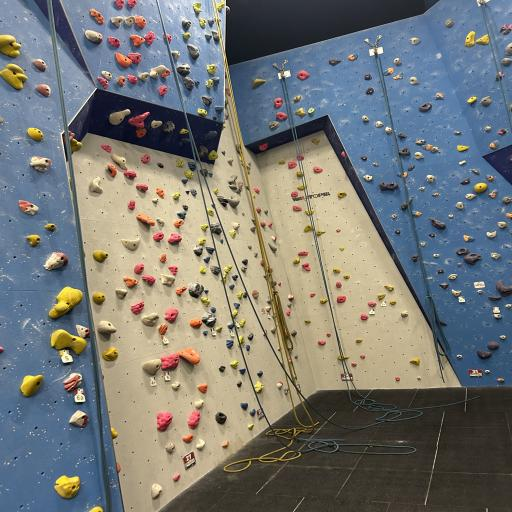holds: (483, 144, 512, 184), (48, 288, 83, 319), (51, 330, 86, 355), (0, 64, 29, 90), (54, 477, 80, 499), (22, 374, 45, 397), (0, 35, 19, 58), (45, 253, 67, 272), (109, 109, 131, 125), (179, 349, 201, 365), (128, 112, 150, 128), (29, 157, 51, 173), (157, 413, 173, 432), (64, 374, 83, 390), (160, 352, 179, 368), (86, 29, 102, 45), (115, 51, 131, 67), (70, 410, 86, 426), (102, 346, 118, 362), (144, 358, 160, 374), (112, 154, 128, 170), (189, 282, 205, 298), (496, 278, 512, 294), (122, 237, 141, 250), (150, 64, 169, 77), (85, 30, 102, 44), (19, 202, 38, 214), (189, 410, 201, 429), (141, 314, 160, 326), (35, 83, 51, 96), (464, 32, 477, 48), (99, 320, 115, 333), (166, 307, 179, 323), (150, 483, 163, 499), (93, 250, 109, 262), (464, 253, 480, 265), (90, 176, 102, 192), (77, 323, 89, 339), (138, 214, 157, 224), (90, 10, 105, 22), (26, 234, 41, 246), (202, 314, 217, 326), (131, 301, 144, 314), (134, 16, 147, 29), (176, 64, 189, 77), (128, 51, 141, 64), (182, 77, 195, 90), (62, 130, 75, 143), (141, 275, 157, 285), (160, 275, 176, 285), (32, 58, 45, 70), (109, 35, 121, 48), (29, 128, 41, 141), (93, 291, 105, 304), (432, 218, 445, 230), (125, 275, 137, 288), (70, 138, 83, 150), (477, 349, 493, 358), (167, 234, 182, 243), (419, 102, 432, 112), (131, 35, 144, 45), (134, 262, 144, 275), (480, 96, 493, 106), (115, 288, 128, 298), (150, 118, 163, 128), (198, 145, 208, 158), (227, 198, 240, 208), (298, 70, 310, 80), (253, 80, 265, 90), (477, 35, 489, 45), (474, 182, 486, 192), (166, 442, 176, 454), (458, 246, 470, 256), (182, 19, 192, 31), (214, 413, 227, 422), (189, 45, 198, 58), (275, 112, 288, 121), (109, 163, 118, 176), (144, 32, 153, 45), (163, 122, 176, 131), (208, 77, 221, 86), (381, 182, 397, 189), (269, 122, 281, 131), (125, 170, 137, 179), (173, 218, 185, 227), (212, 222, 221, 234), (182, 432, 192, 442), (195, 438, 205, 448), (102, 70, 112, 80), (195, 246, 205, 256), (502, 195, 512, 205), (330, 58, 341, 67), (268, 242, 277, 253), (486, 342, 499, 349), (445, 19, 454, 29), (112, 16, 121, 26), (102, 144, 112, 153), (198, 384, 208, 393), (138, 182, 147, 192), (336, 294, 345, 304), (202, 96, 211, 106), (195, 400, 205, 409), (208, 64, 217, 74), (451, 289, 461, 298), (125, 16, 134, 26), (192, 3, 201, 13), (208, 150, 217, 160), (138, 128, 147, 138), (211, 266, 221, 275), (115, 0, 125, 9), (99, 77, 109, 86), (87, 506, 102, 512), (214, 106, 224, 115), (288, 160, 297, 170), (503, 25, 512, 35), (241, 163, 250, 173), (198, 17, 205, 29), (218, 198, 230, 205), (490, 294, 502, 301), (176, 285, 185, 294), (141, 154, 150, 163), (464, 234, 473, 243), (410, 77, 419, 86), (128, 74, 137, 83), (170, 266, 179, 275), (400, 202, 409, 211), (502, 58, 512, 66), (160, 323, 166, 336), (294, 109, 307, 115), (217, 0, 224, 11), (189, 320, 201, 326), (138, 74, 150, 80), (211, 29, 217, 41), (205, 78, 214, 86), (506, 42, 512, 54), (116, 462, 122, 474), (394, 72, 403, 80), (228, 175, 237, 183), (486, 230, 496, 237), (297, 183, 307, 190), (424, 144, 435, 150), (238, 336, 244, 347), (206, 208, 214, 216), (314, 166, 323, 173), (410, 38, 419, 45), (410, 358, 419, 365), (349, 54, 358, 61), (176, 211, 185, 218), (461, 179, 470, 186), (317, 339, 326, 346), (413, 211, 422, 218), (397, 131, 406, 138), (215, 326, 224, 333), (205, 246, 214, 253), (400, 310, 409, 317), (118, 77, 125, 86), (208, 131, 217, 138), (416, 150, 422, 160), (467, 96, 477, 102), (467, 192, 477, 198), (160, 86, 166, 96), (454, 202, 464, 208), (259, 144, 269, 150), (227, 339, 233, 349), (275, 99, 281, 109), (182, 32, 192, 38), (435, 93, 445, 99), (198, 109, 208, 115), (189, 160, 195, 170), (304, 262, 310, 272), (179, 128, 189, 134), (316, 230, 326, 236), (304, 226, 314, 232), (296, 153, 304, 160), (201, 168, 208, 176), (426, 176, 435, 182), (128, 202, 134, 211), (45, 224, 54, 230), (160, 253, 166, 262), (298, 250, 307, 256), (173, 381, 179, 390), (240, 403, 249, 409), (154, 234, 163, 240), (458, 144, 467, 150), (176, 157, 182, 166), (368, 301, 377, 307), (365, 176, 374, 182), (292, 205, 301, 211), (202, 298, 211, 304), (384, 128, 393, 134), (237, 320, 246, 326), (471, 170, 480, 176), (205, 32, 211, 41), (112, 429, 118, 438), (157, 189, 163, 198), (234, 221, 240, 230), (186, 170, 192, 179), (493, 253, 502, 259), (490, 141, 499, 147), (416, 138, 425, 144), (384, 285, 393, 291), (128, 0, 137, 6), (500, 24, 506, 33), (230, 230, 237, 237), (166, 35, 173, 42), (297, 170, 304, 177), (312, 138, 320, 144), (267, 296, 273, 304), (252, 218, 258, 226), (229, 184, 237, 190), (338, 356, 349, 360), (230, 362, 237, 368), (368, 86, 374, 93), (362, 115, 368, 122), (294, 96, 301, 102), (294, 256, 301, 262), (173, 51, 179, 58), (198, 266, 205, 272), (198, 237, 205, 243), (288, 294, 294, 301), (237, 291, 243, 298), (387, 67, 393, 74), (154, 198, 160, 205), (506, 211, 512, 218), (438, 269, 445, 275), (486, 176, 493, 182), (277, 382, 284, 388), (242, 259, 249, 265), (208, 19, 215, 25), (306, 210, 314, 215), (263, 273, 271, 278), (339, 192, 345, 198), (247, 333, 253, 339), (173, 474, 179, 480), (442, 282, 448, 288), (499, 221, 505, 227), (173, 192, 179, 198), (365, 74, 371, 80), (221, 442, 227, 448), (221, 365, 227, 371), (378, 294, 384, 300), (205, 256, 211, 262), (362, 314, 368, 320), (461, 160, 467, 166), (394, 58, 400, 64), (192, 189, 198, 195), (211, 307, 217, 313), (413, 256, 419, 262), (490, 192, 496, 198), (378, 122, 384, 128), (250, 410, 256, 416), (499, 128, 505, 134), (256, 384, 262, 390), (259, 221, 265, 227), (202, 224, 208, 230), (320, 298, 326, 304), (256, 371, 262, 377), (253, 291, 259, 297), (291, 192, 297, 198), (231, 275, 237, 281), (272, 237, 278, 243), (407, 166, 416, 170), (240, 368, 246, 374), (271, 327, 277, 333), (260, 260, 266, 266), (267, 266, 273, 272), (182, 204, 188, 210), (195, 79, 200, 86), (284, 387, 289, 394), (157, 163, 164, 168), (228, 157, 233, 164), (494, 314, 502, 318), (499, 70, 502, 80), (243, 262, 246, 272), (279, 159, 285, 164), (310, 293, 316, 298), (234, 303, 240, 308), (203, 330, 208, 336), (237, 381, 242, 387), (263, 330, 268, 336), (485, 126, 491, 131), (250, 226, 255, 232), (271, 281, 276, 287), (254, 187, 259, 193), (238, 182, 243, 188), (226, 6, 229, 16), (448, 275, 457, 278), (333, 269, 342, 272), (496, 378, 505, 381), (266, 306, 271, 311), (236, 188, 241, 193), (448, 214, 454, 218), (226, 88, 230, 94), (506, 304, 512, 308), (286, 310, 290, 316), (292, 330, 296, 336), (341, 151, 345, 157), (254, 252, 258, 258), (250, 422, 253, 429), (342, 275, 349, 278), (454, 131, 461, 134), (390, 301, 397, 304), (212, 116, 217, 120), (222, 125, 226, 130), (373, 162, 378, 166), (417, 376, 422, 380), (246, 345, 250, 350), (213, 189, 218, 193), (499, 336, 505, 339), (432, 192, 438, 195), (362, 157, 368, 160), (234, 311, 237, 317), (429, 234, 435, 237), (256, 208, 262, 211), (458, 355, 464, 358), (355, 339, 361, 342), (0, 346, 3, 352), (420, 187, 426, 190), (434, 254, 440, 257), (477, 290, 483, 293), (421, 242, 425, 246), (396, 377, 400, 381), (352, 363, 356, 367), (288, 303, 292, 307), (278, 282, 282, 286), (294, 355, 298, 359), (268, 223, 272, 227), (264, 210, 268, 214), (248, 245, 252, 249), (220, 239, 224, 243), (208, 172, 212, 176), (305, 320, 310, 323), (458, 263, 462, 266), (485, 370, 489, 373), (278, 347, 282, 350), (340, 247, 344, 250), (336, 229, 340, 232), (222, 150, 225, 154), (326, 333, 329, 336), (403, 173, 406, 176), (230, 285, 233, 288), (362, 355, 365, 358), (397, 230, 400, 233), (205, 291, 208, 294), (252, 194, 255, 197), (398, 174, 402, 176), (240, 158, 242, 162), (242, 213, 245, 215), (249, 162, 251, 165)
